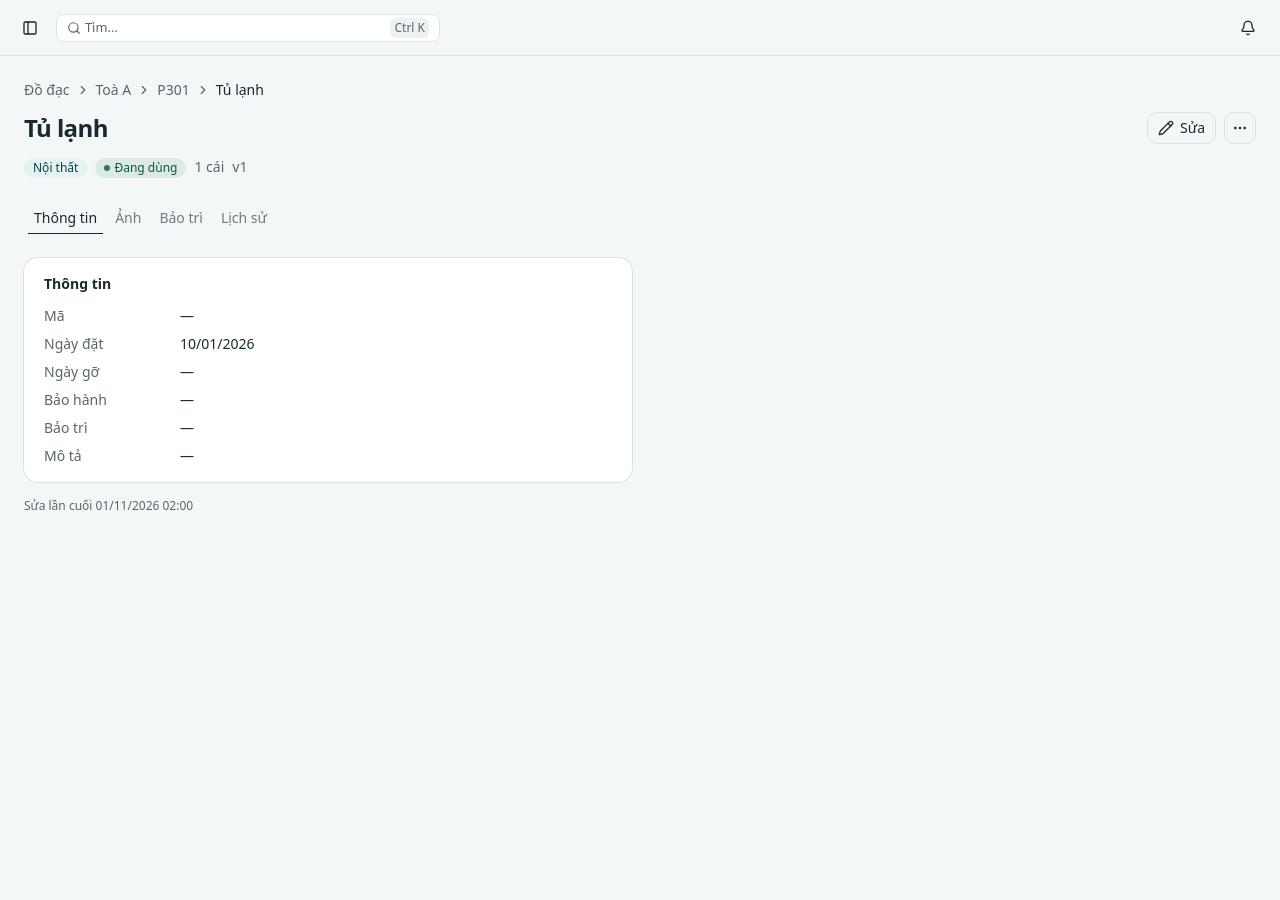
Test case: removeDateCannotPrecedePlacement
The image size is (1280, 900).
Click the button named "Thao tác khác": (1240, 128) [1224,112,1256,144]
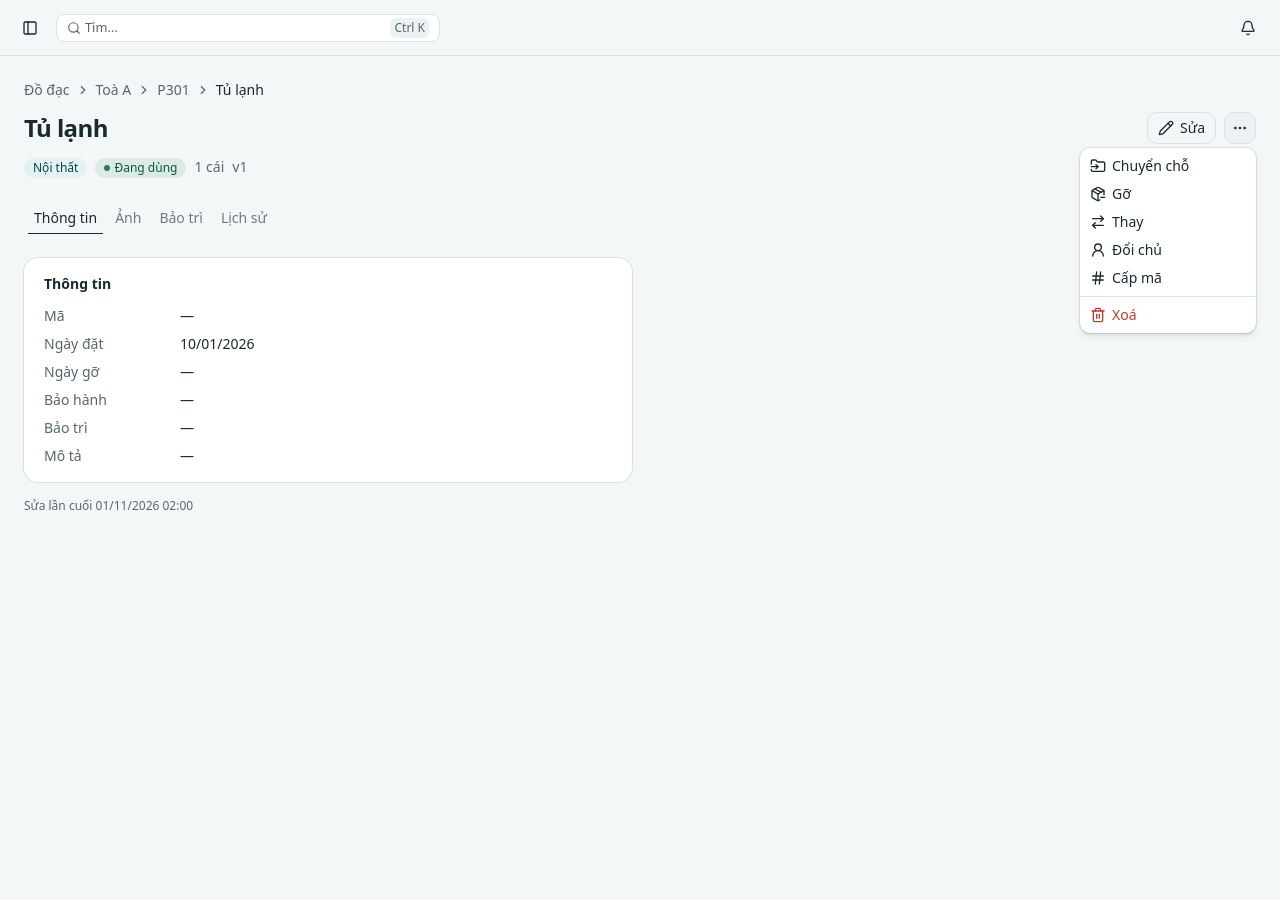
Click the menu item "Gỡ": (1110, 194) [1090,184,1131,203]
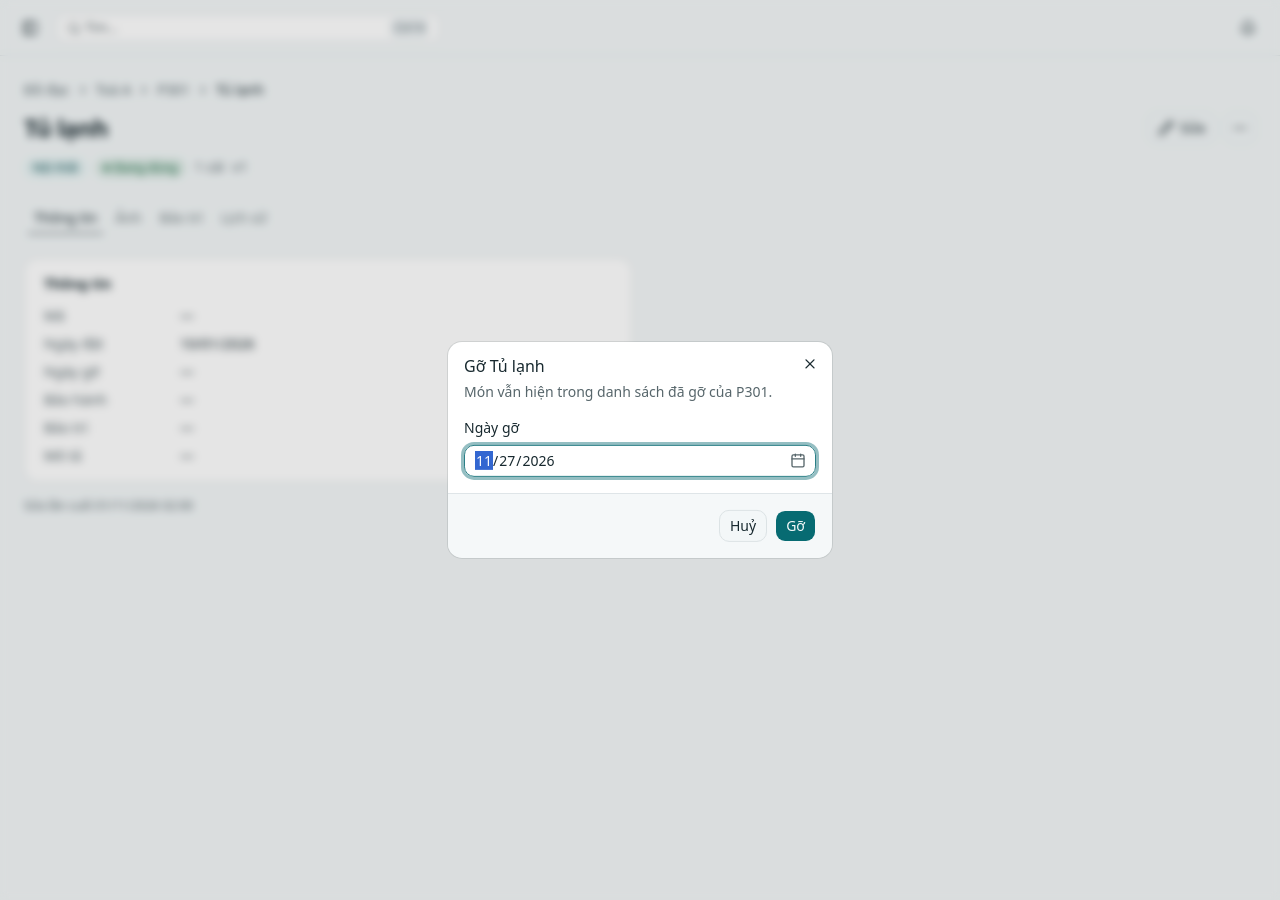
In the date field labelled "Ngày gỡ": (640, 461) [464,445,816,477], type "2026-01-01"
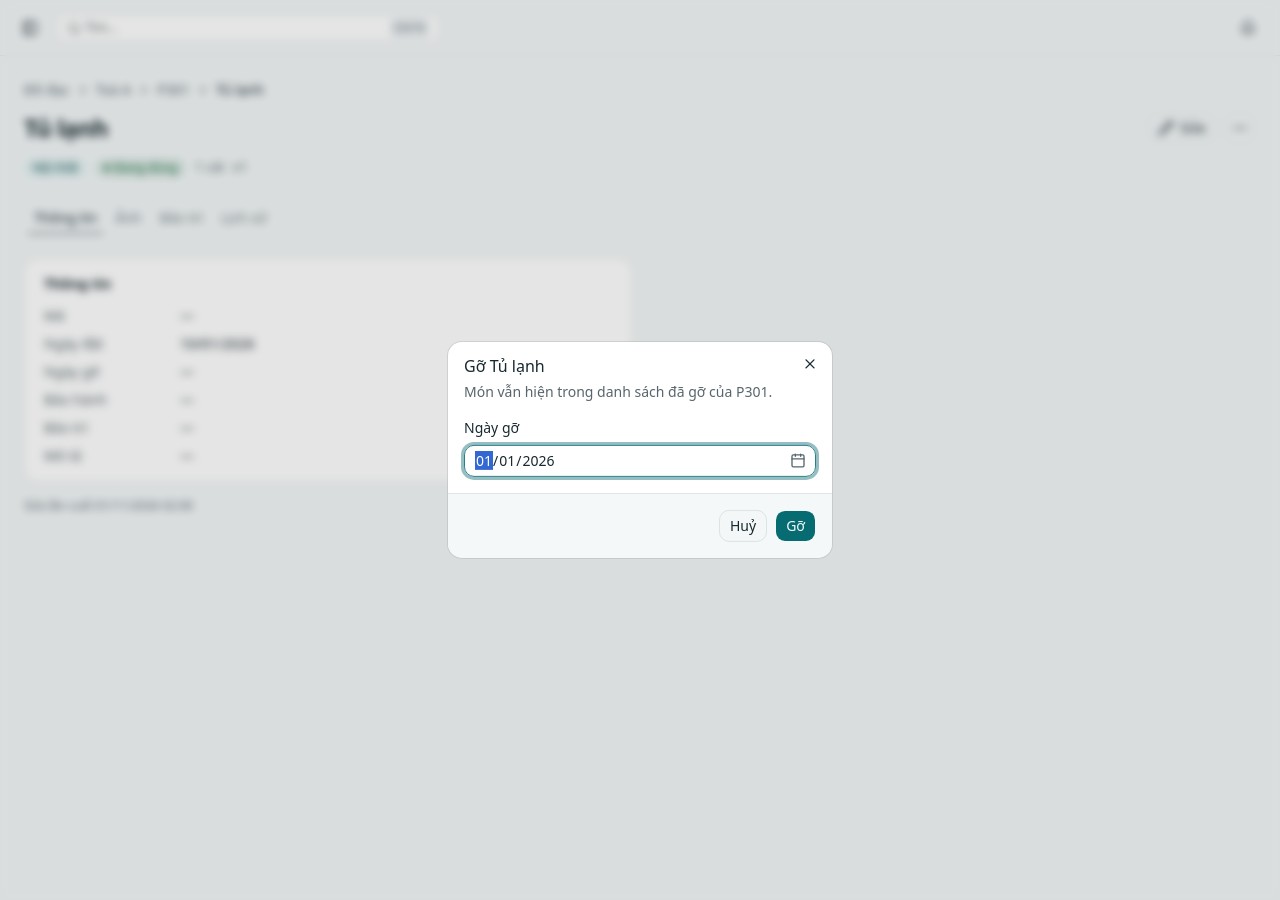
Click the button "Gỡ": (796, 526) [775,510,816,542]
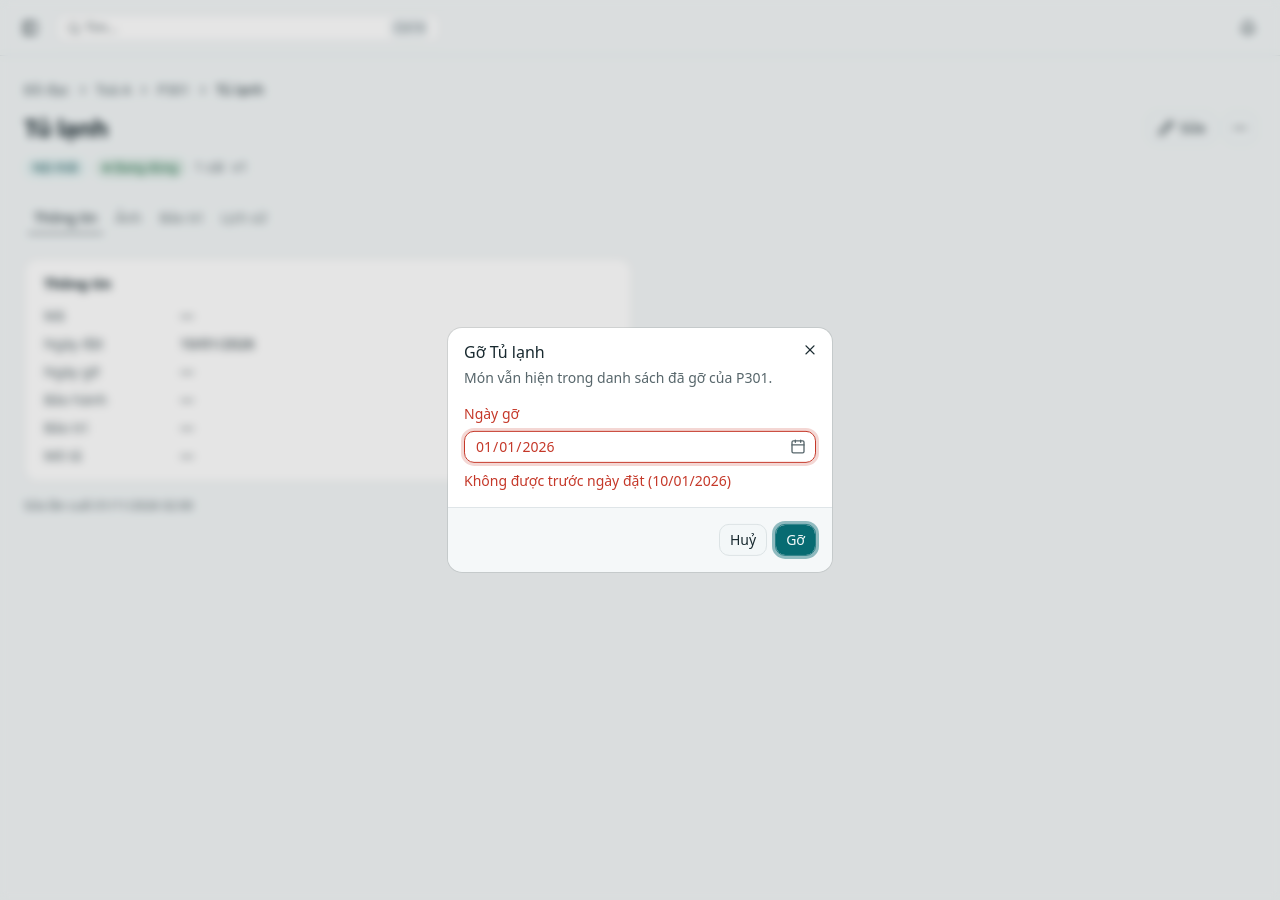
Check: the text "Không được trước ngày đặt (10/01/2026)" is shown, box [464,471,731,490]
